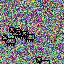sheep: (9, 26, 23, 39), (2, 35, 16, 46), (15, 28, 29, 38), (23, 31, 35, 42), (36, 57, 50, 64)
